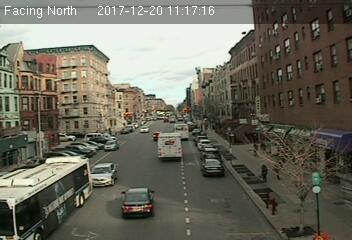car: (120, 185, 157, 219), (87, 163, 118, 187), (198, 158, 225, 178)
pedestrian: (259, 162, 270, 184)
truck: (157, 133, 183, 162), (173, 123, 190, 142)
